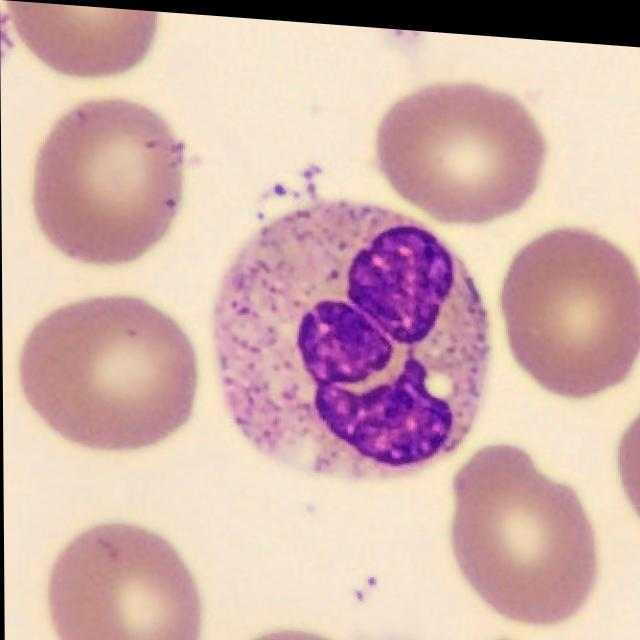Neutrofilo segmentado: (211, 198, 491, 477)
